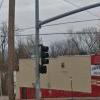Traffic light: (31, 40, 53, 74)
